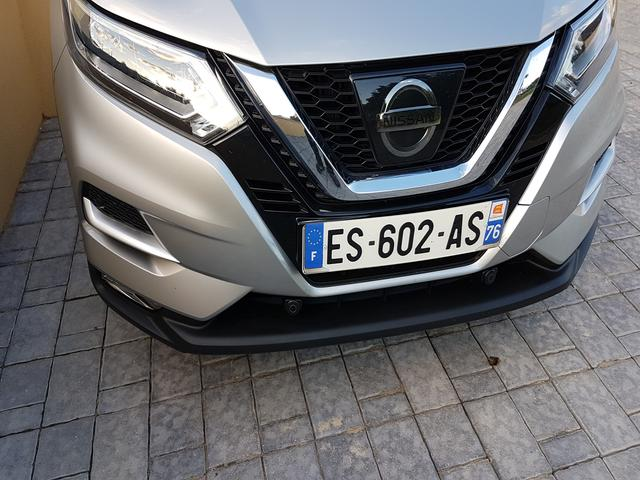Quashquai: (287, 181, 520, 285)
